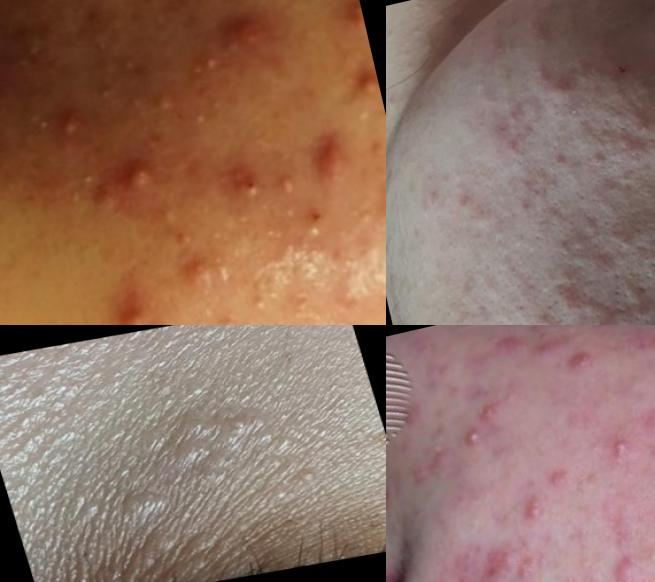blackhead: (590, 148, 615, 175), (610, 305, 637, 326), (590, 307, 611, 326), (564, 313, 591, 326)
milium: (221, 404, 275, 440), (292, 453, 337, 493)
papular: (220, 154, 278, 209), (300, 126, 362, 177), (215, 7, 279, 50), (516, 483, 554, 537), (446, 270, 498, 309), (546, 69, 583, 111), (605, 547, 645, 582), (527, 304, 567, 326), (499, 134, 527, 163), (513, 194, 541, 220), (492, 117, 517, 144), (454, 189, 479, 214), (630, 115, 655, 139), (550, 151, 573, 173), (471, 76, 492, 97)
purulent: (178, 242, 249, 306), (106, 287, 177, 326), (440, 414, 491, 464), (597, 418, 644, 471), (111, 152, 161, 200)
syringoma: (97, 502, 272, 582), (171, 428, 282, 485), (112, 478, 194, 526)
whitehead: (553, 205, 616, 279), (54, 98, 90, 146), (277, 156, 304, 199), (438, 168, 460, 193)
